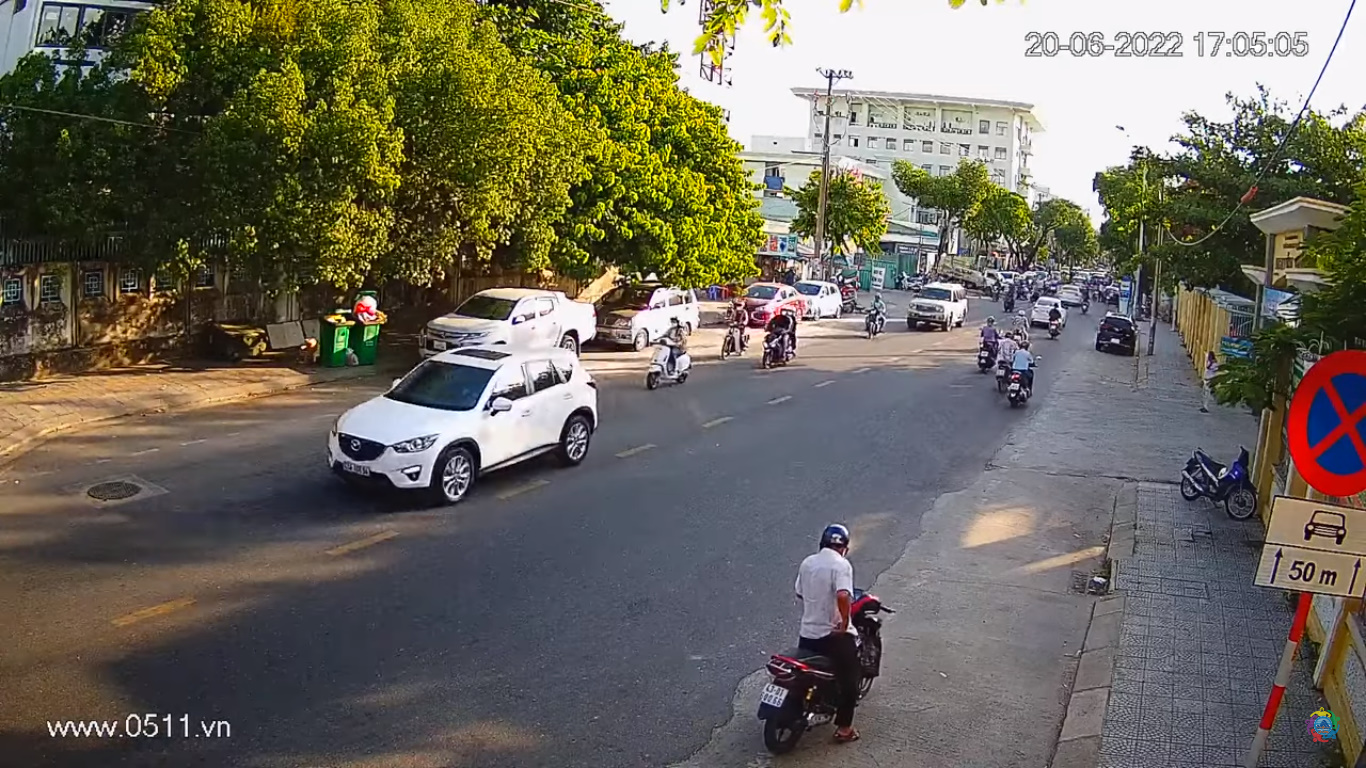car: (327, 337, 600, 509)
